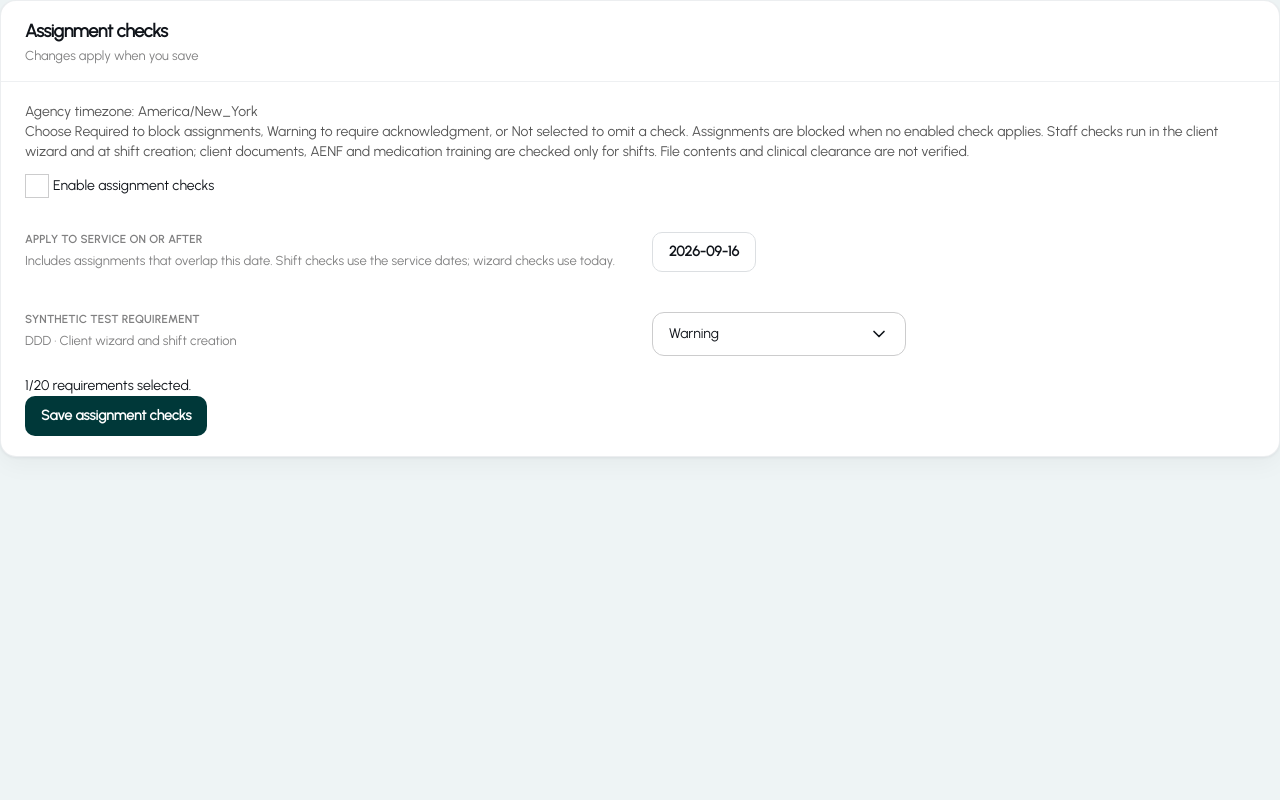
Test case: saves independently, retains the draft on revision conflict and requires explicit reload
Click the checkbox labelled "Enable assignment checks". click: (120,186)
box: x1=25 y1=174 x2=214 y2=198
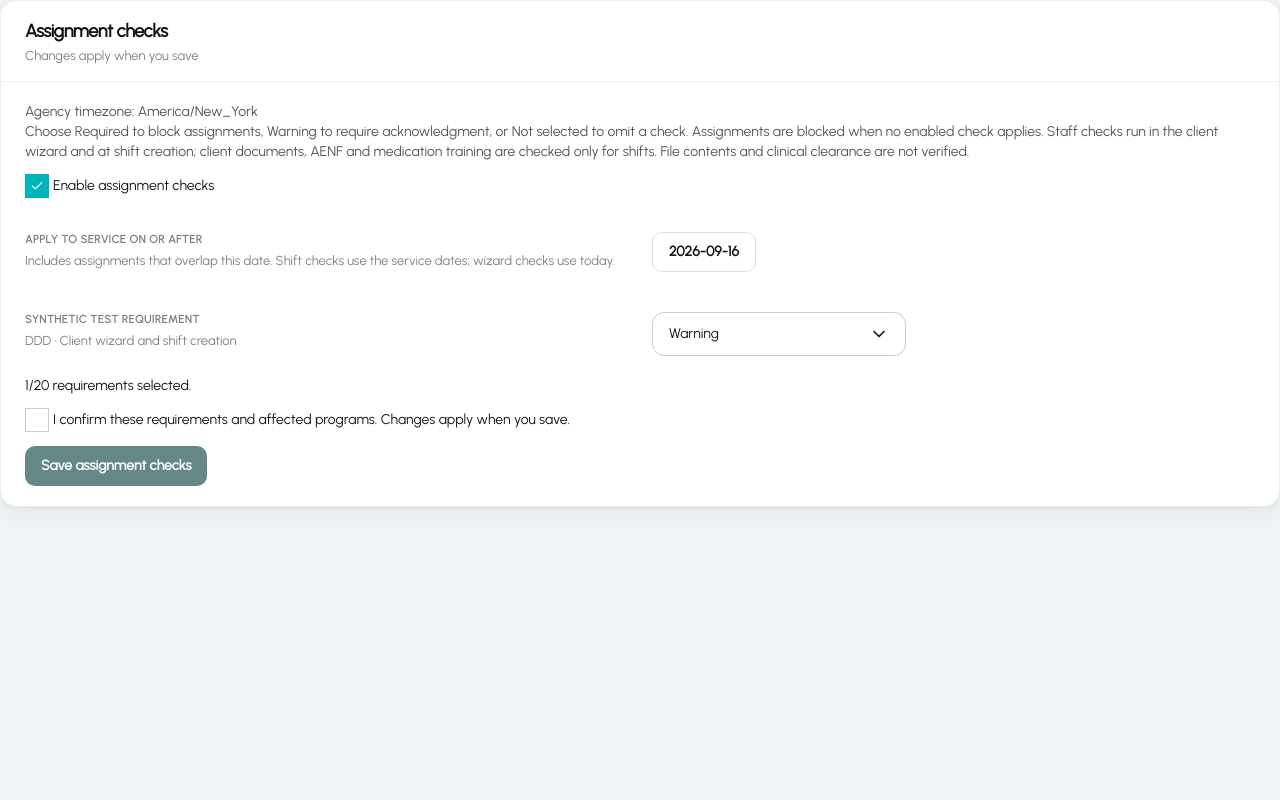
Click the checkbox labelled "I confirm these requirements". click: (298,420)
box: x1=25 y1=408 x2=570 y2=432
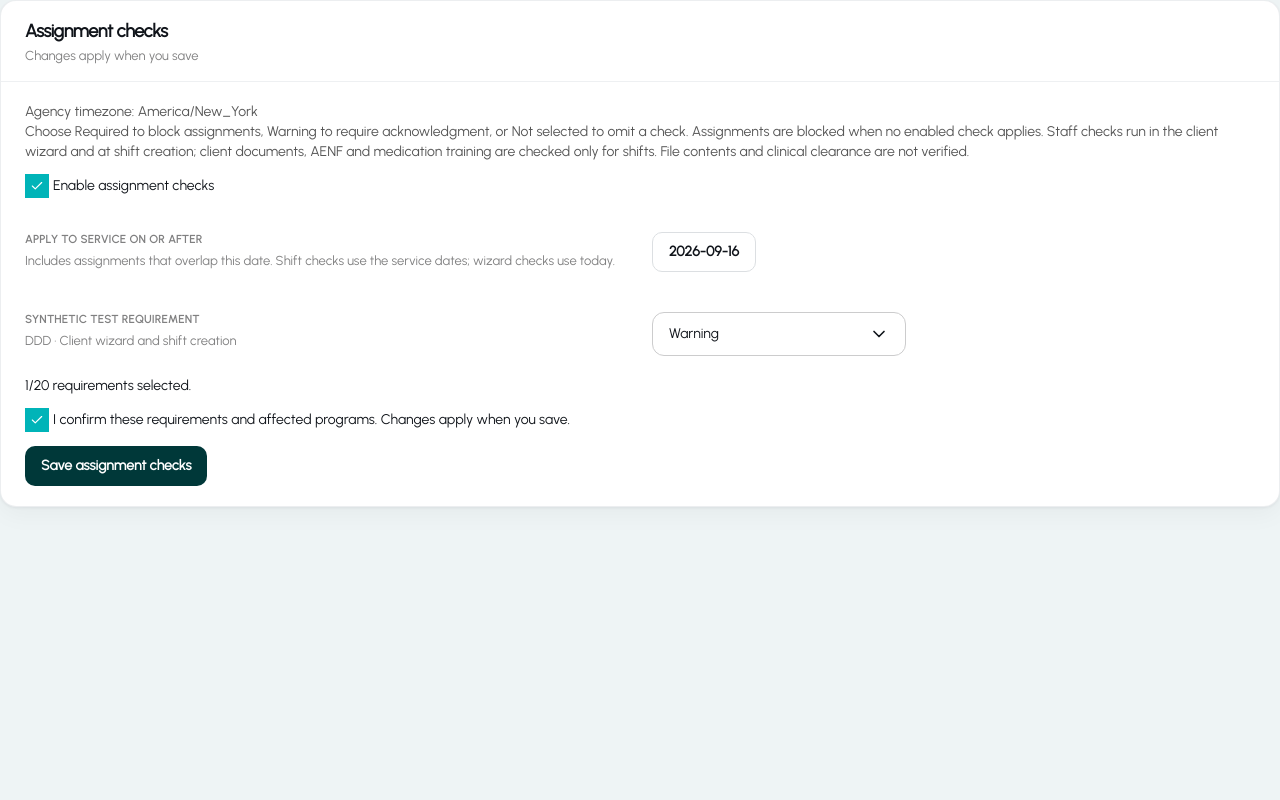
Click the button "Save assignment checks". click: (116,466)
box: x1=25 y1=446 x2=207 y2=486
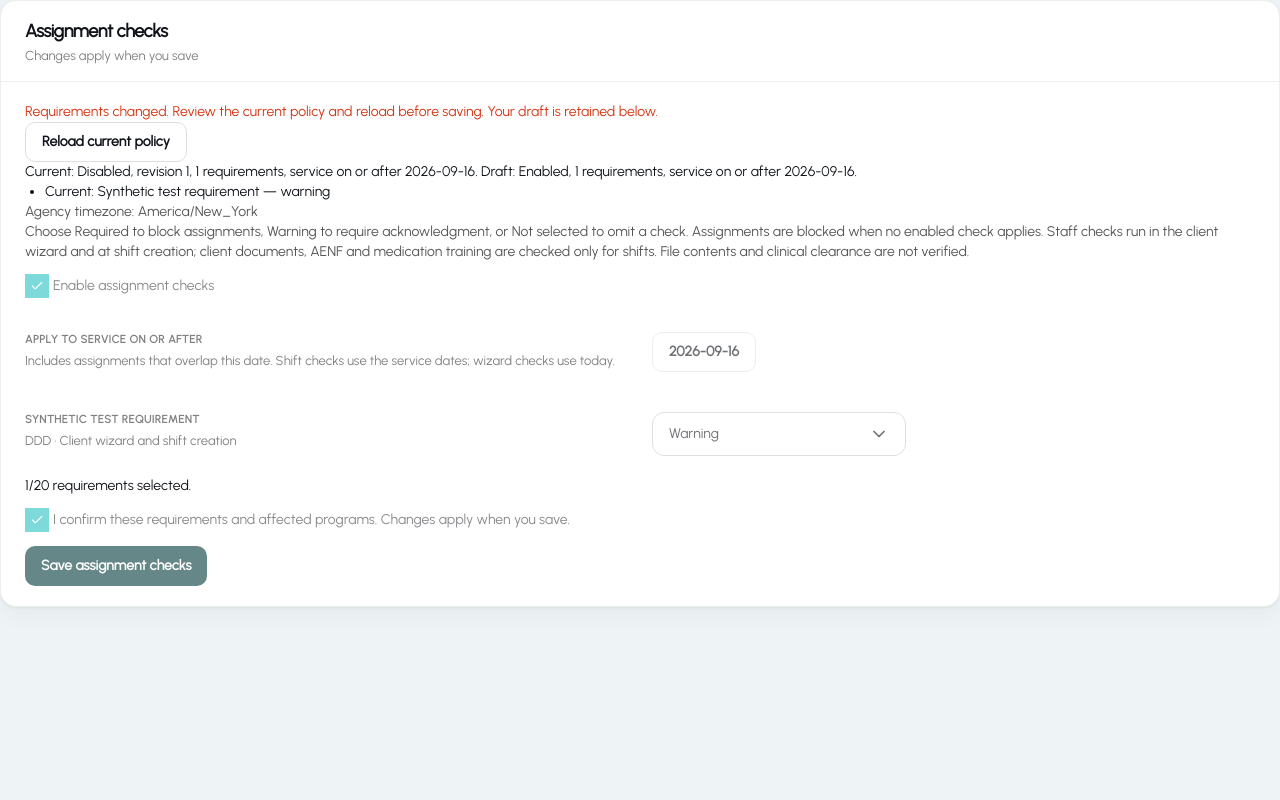
Result: the checkbox labelled "Enable assignment checks" is checked at x1=25 y1=274 x2=214 y2=298
Result: the button "Save assignment checks" is disabled at x1=25 y1=546 x2=207 y2=586
Click the button "Reload current policy". click: (106,142)
box: x1=25 y1=122 x2=187 y2=162
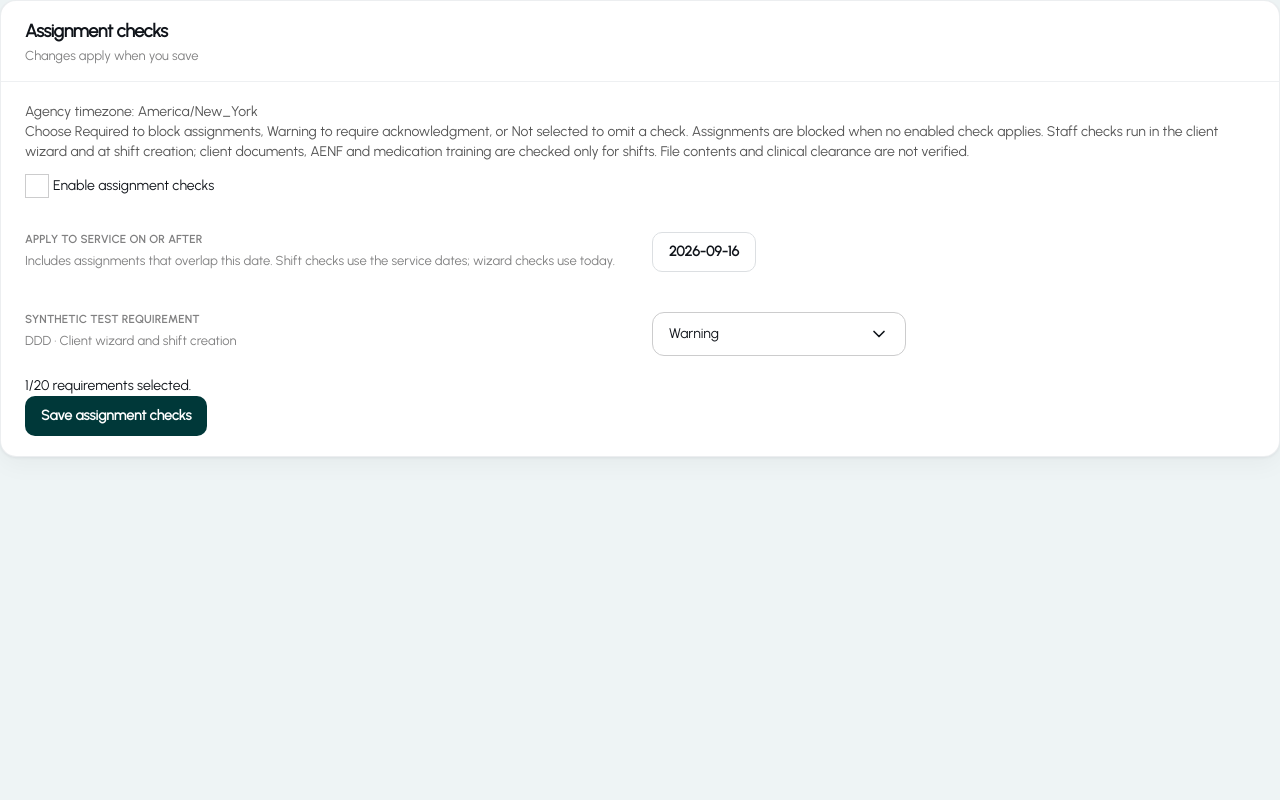
Result: the checkbox labelled "Enable assignment checks" is not checked at x1=25 y1=174 x2=214 y2=198
